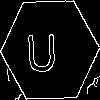U: (25, 25, 58, 72)
